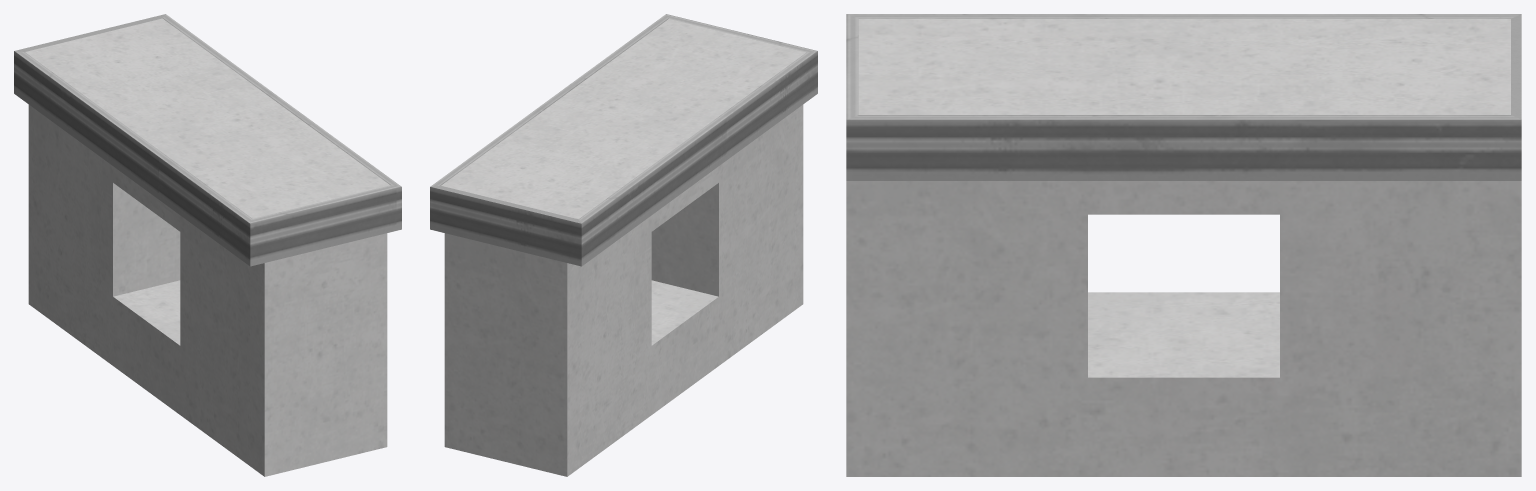
File: MB_Fence_E_1m.fbx
3 views of the same model, side by side, from view 1: azimuth 30°, elevation 25°; view 2: azimuth 150°, elevation 25°; view 3: azimuth 270°, elevation 25° (orthographic). The views are drawn at different scales.
Visible parts, largest first — view 1: MB_Fence_E_1m; view 2: MB_Fence_E_1m; view 3: MB_Fence_E_1m.
Part boxes in pixels (<box>): MB_Fence_E_1m: <box>14,14,401,476</box>; MB_Fence_E_1m: <box>430,14,817,476</box>; MB_Fence_E_1m: <box>846,14,1521,476</box>.
Size of the model in its own units: 37.08 by 60 by 100.
